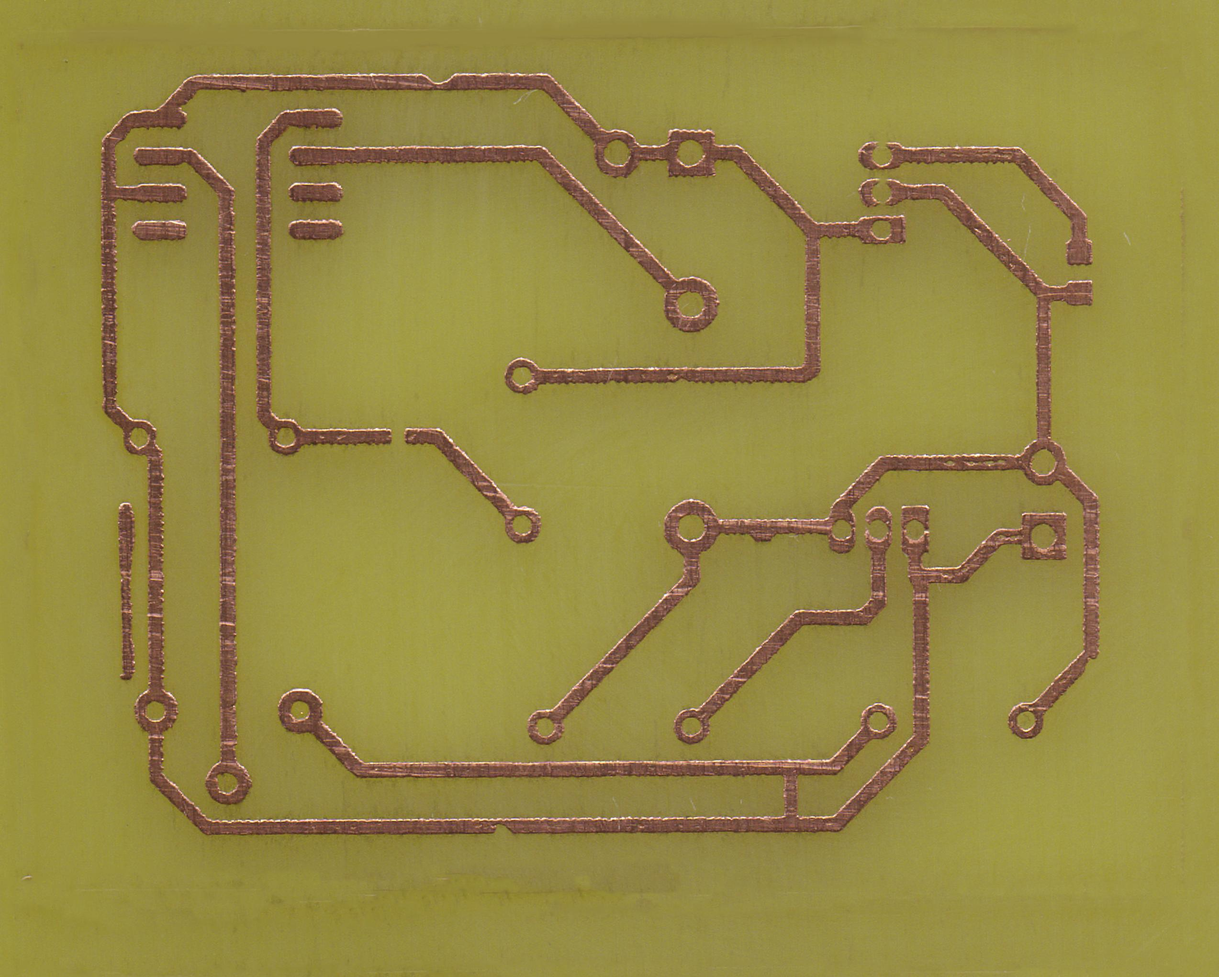missing_hole: (859, 177, 905, 208), (864, 506, 895, 552), (858, 141, 905, 170)
mouse_bite: (418, 72, 460, 91), (491, 821, 515, 836)
open_circuit: (381, 428, 418, 444)
short: (772, 759, 809, 831)
spur: (745, 521, 778, 545)
spurious_copper: (116, 502, 138, 682)
